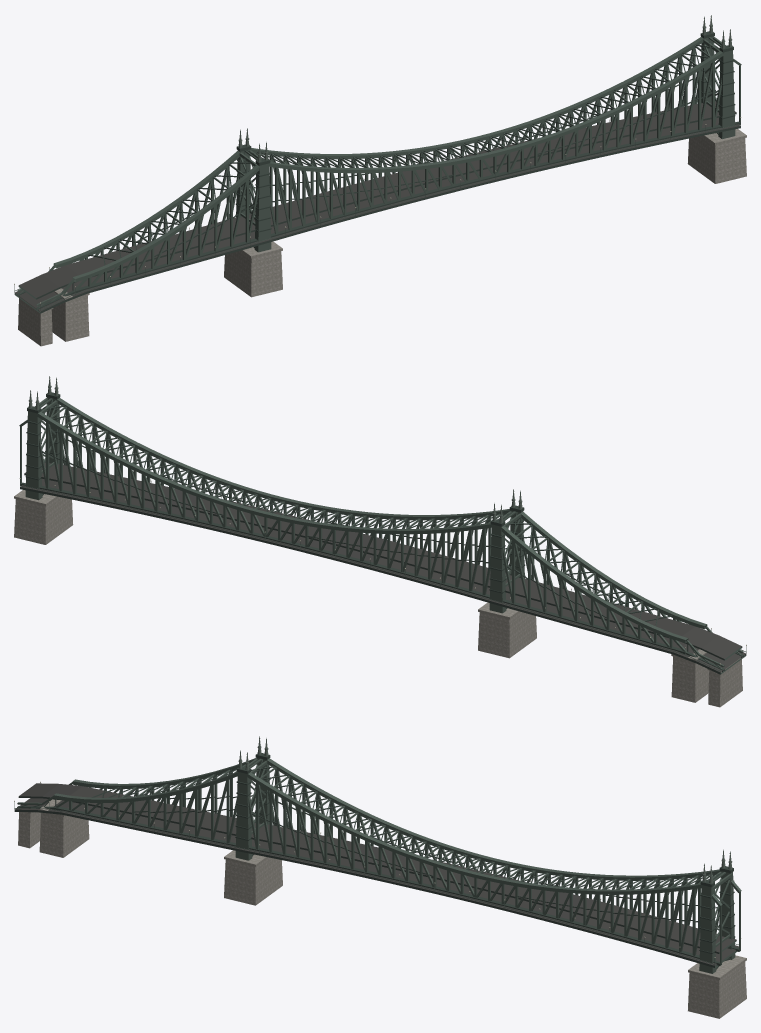
The model's file is queensboro_bridge.glb.
The picture shows the model from 3 angles, top to bottom: view 1: azimuth 30°, elevation 25°; view 2: azimuth 150°, elevation 25°; view 3: azimuth 330°, elevation 25°; orthographic projection.
Visible parts, largest first — view 1: queensboro_bridge; view 2: queensboro_bridge; view 3: queensboro_bridge.
Boxes of the visible parts, x1,y1,x2,y2 form: queensboro_bridge: (14, 15, 746, 346); queensboro_bridge: (14, 376, 746, 707); queensboro_bridge: (14, 736, 746, 1018).
Size of the model in its own units: 534 by 107 by 36.01.
2 materials, 2 textured.
